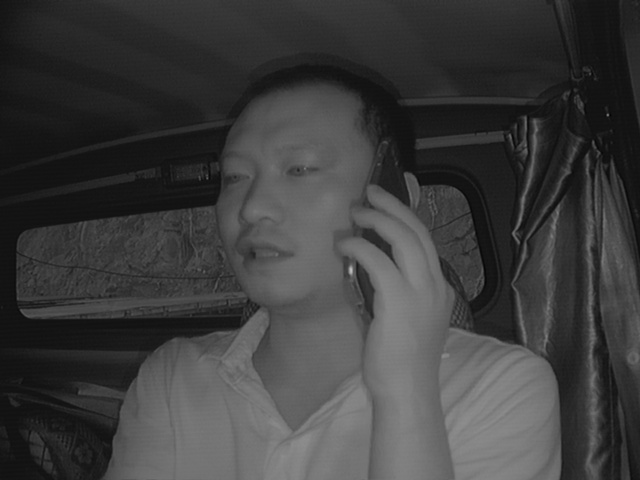hand: (337, 187, 465, 387)
